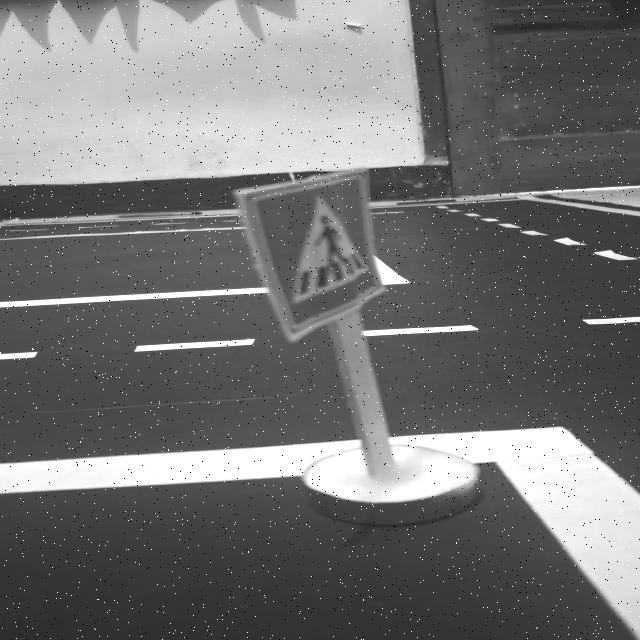Rambu Penyebrangan: (244, 174, 388, 333)
